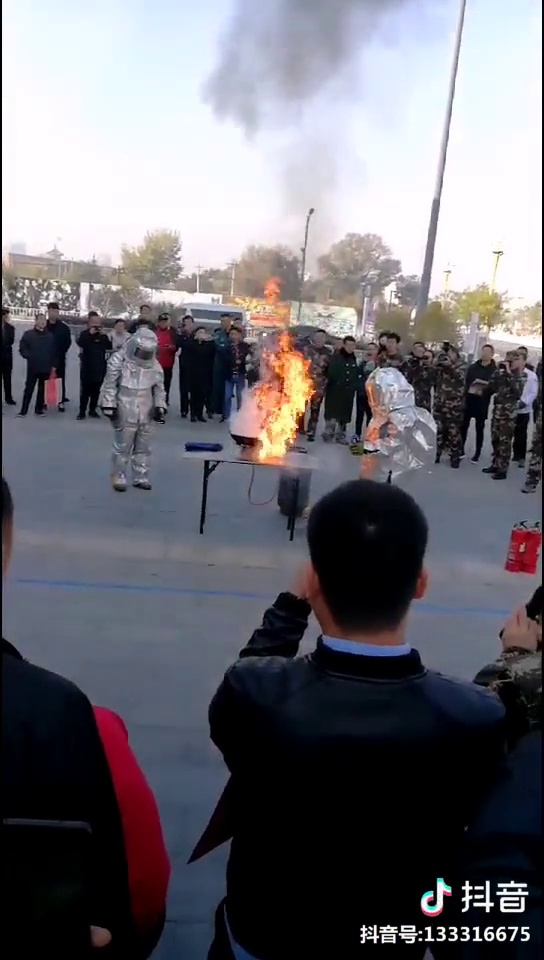fire: (235, 309, 306, 459)
